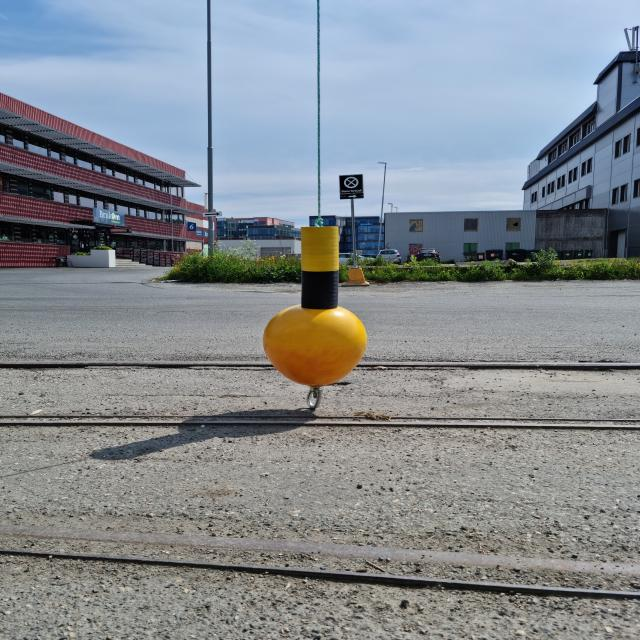west: (263, 229, 370, 386)
